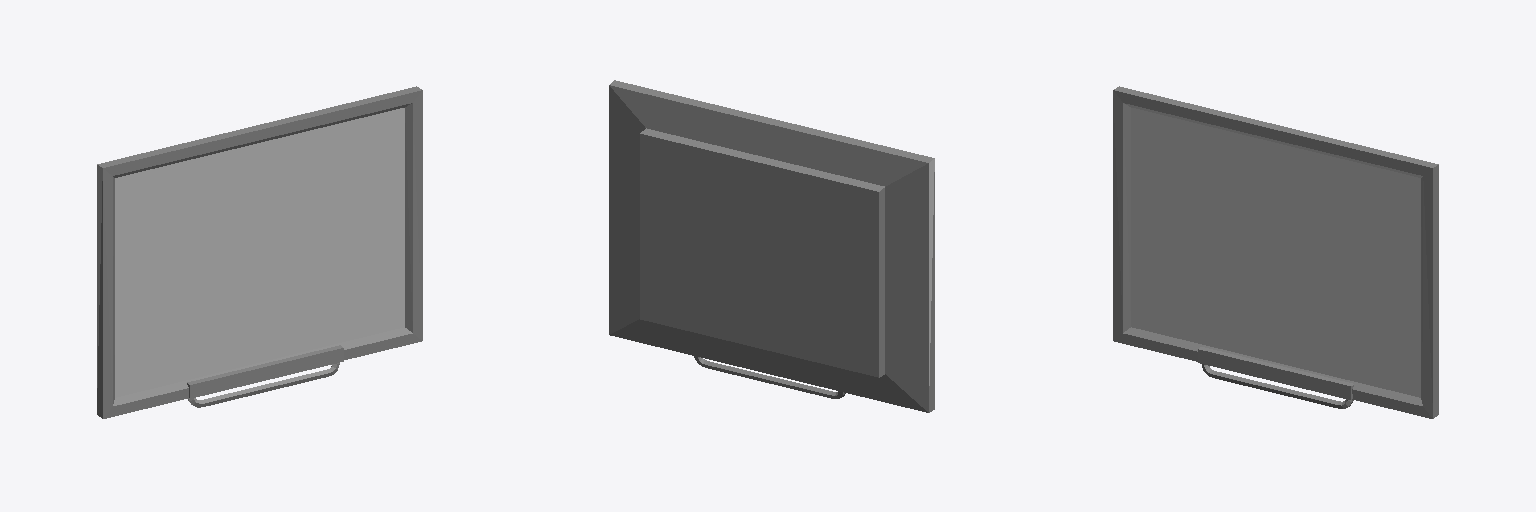
The picture shows the model from 3 angles: view 1: azimuth 30°, elevation 25°; view 2: azimuth 150°, elevation 25°; view 3: azimuth 330°, elevation 25°; orthographic projection.
Visible parts, largest first — view 1: OBJ_TV_Plasma_Screen_riddlerscreenshot; view 2: OBJ_TV_Plasma_Screen_riddlerscreenshot; view 3: OBJ_TV_Plasma_Screen_riddlerscreenshot.
Part boxes in pixels (left/top/right/bottom): OBJ_TV_Plasma_Screen_riddlerscreenshot: left=97, top=86, right=422, bottom=418; OBJ_TV_Plasma_Screen_riddlerscreenshot: left=609, top=80, right=934, bottom=412; OBJ_TV_Plasma_Screen_riddlerscreenshot: left=1113, top=86, right=1438, bottom=418.
Bounding box in the file's own units: 128 × 101 × 11.45.